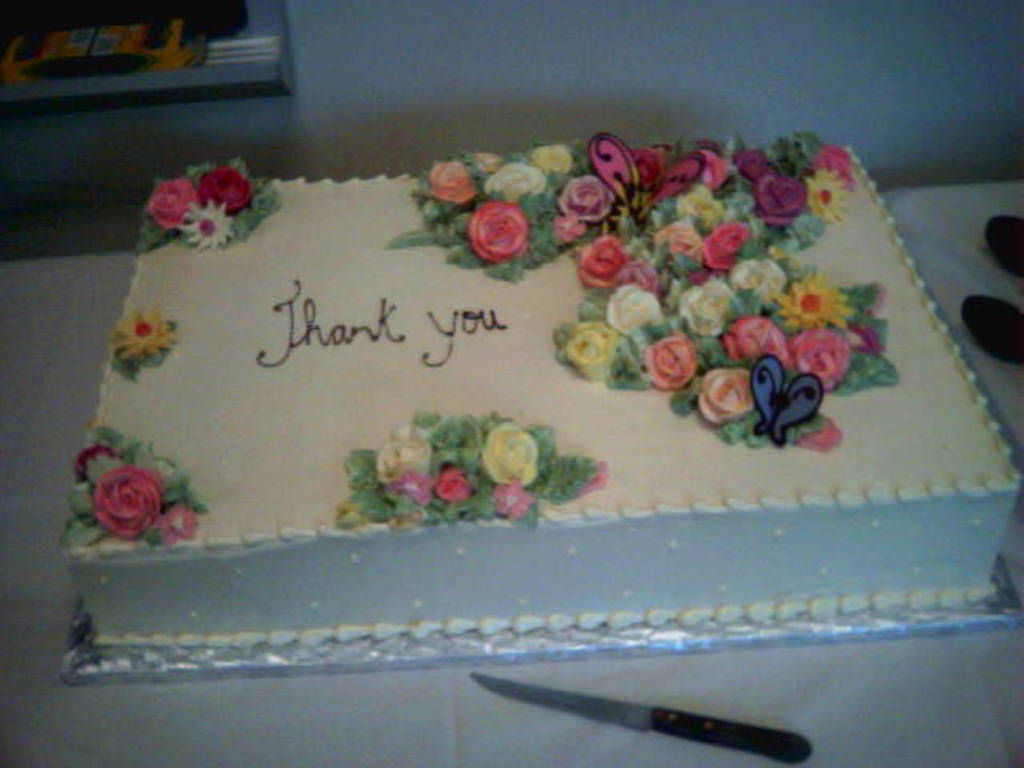knife: (469, 671, 812, 764)
